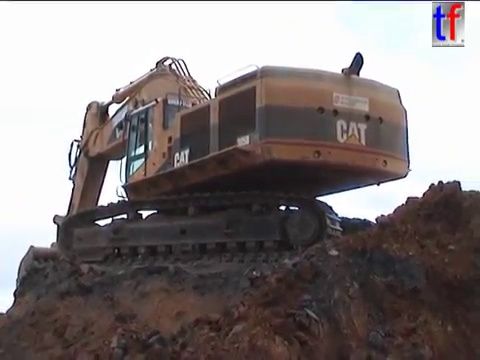excavator: (11, 48, 415, 300)
